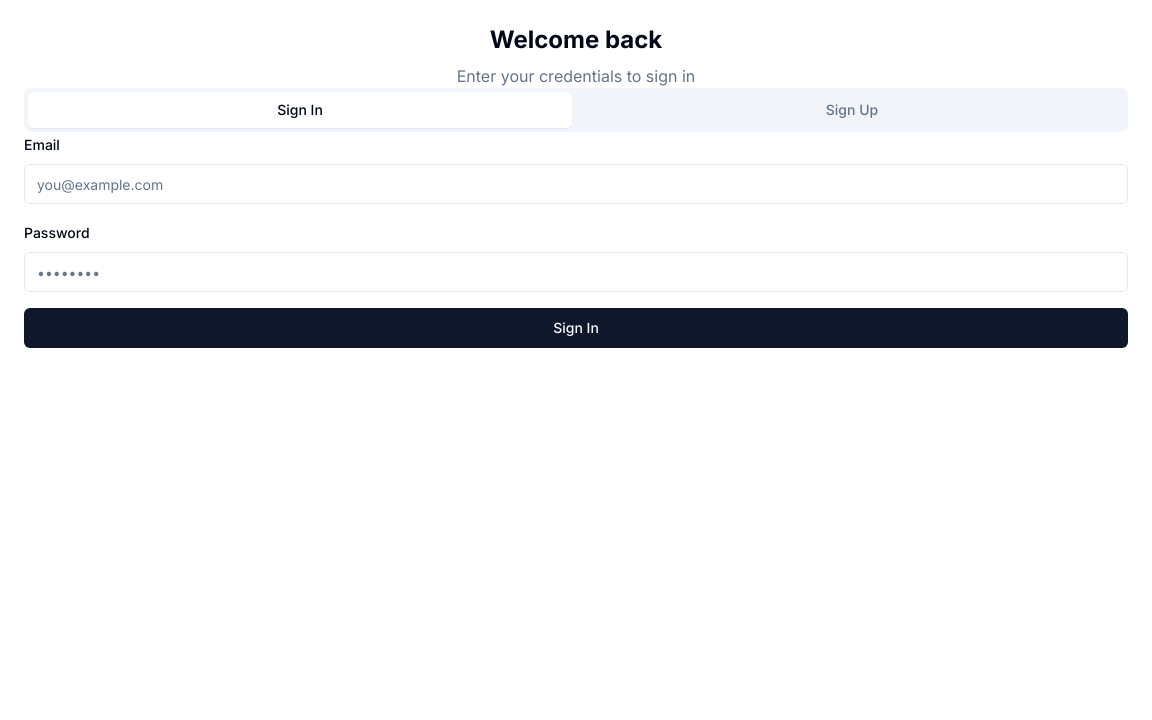
Test: AuthForm › toggles back to sign in view when button clicked
The width and height of the screenshot is (1152, 720).
Click the button "Sign Up" at point(852, 110), box [580,92,1124,128]
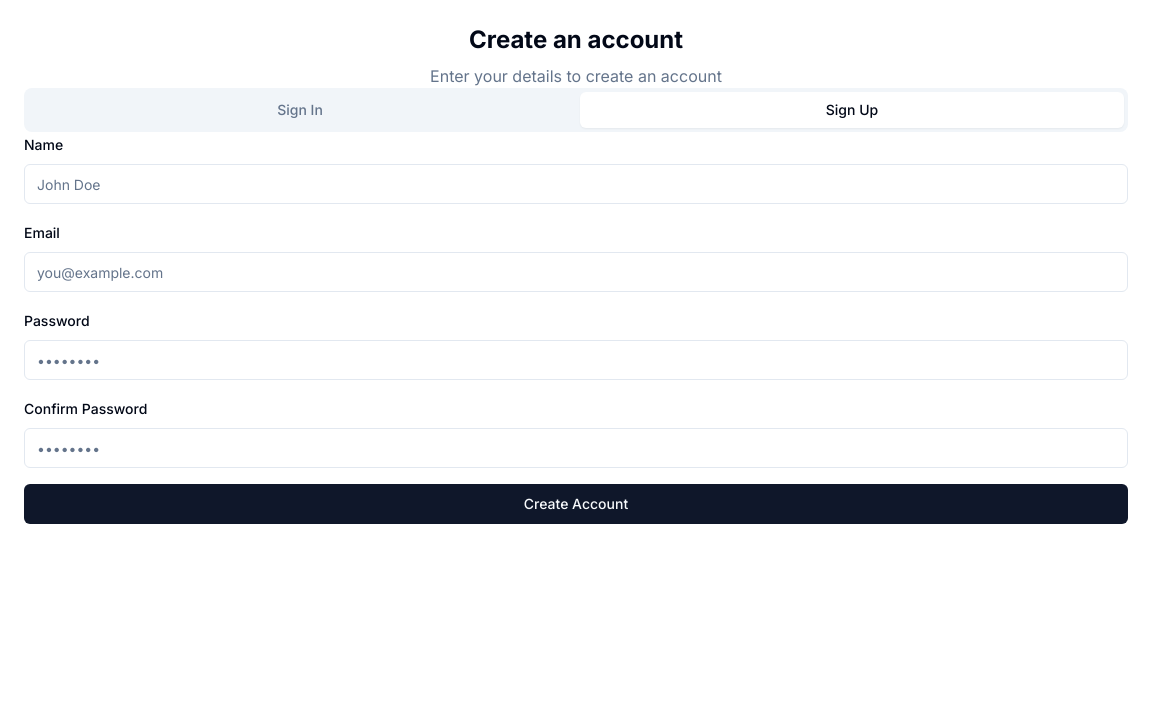
Click the button "Sign In" at point(300, 110), box [28,92,572,128]
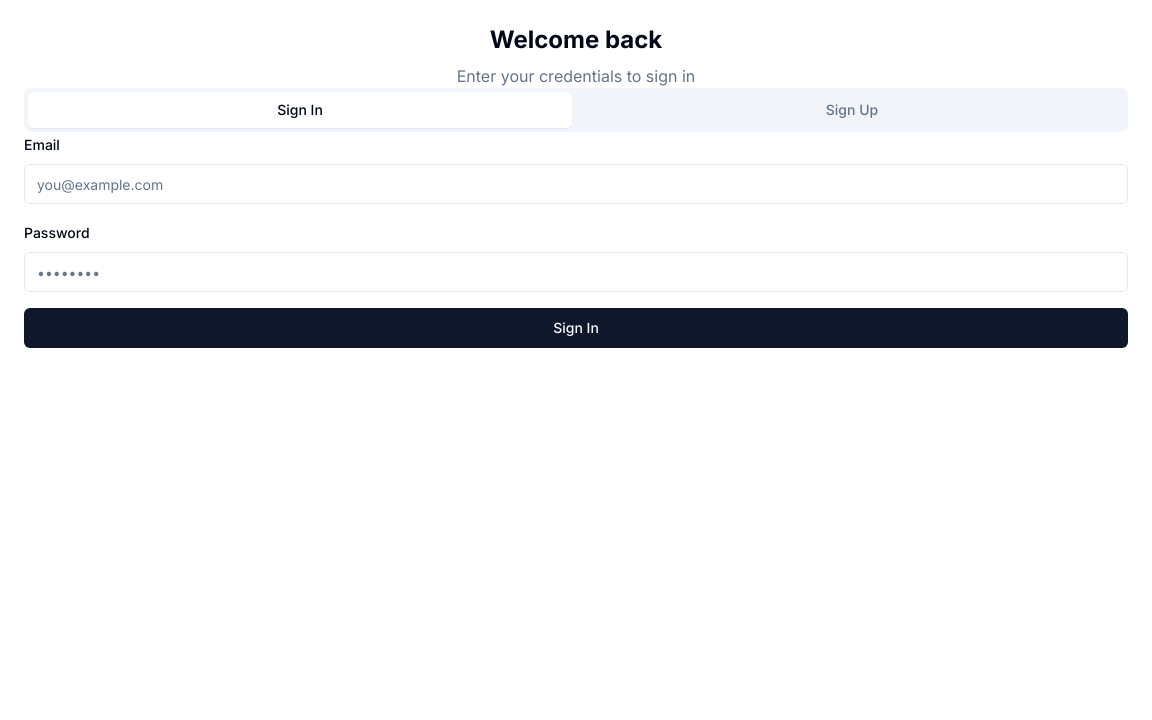
Expected: the heading "Welcome back" is shown, [490,25,662,54]
Expected: the field labelled "Email" is shown, [24,164,1128,204]
